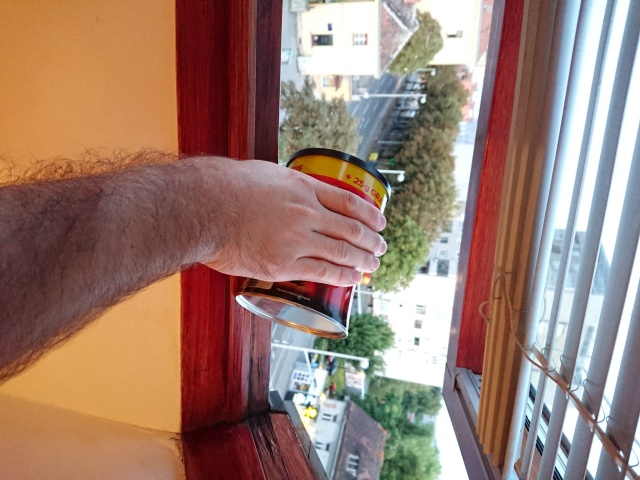Nescafe Classic 225g: (232, 145, 394, 344)
